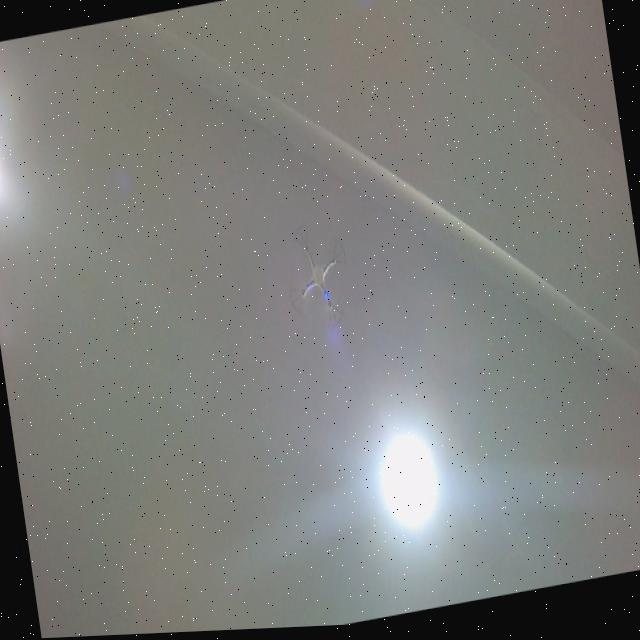drone: (274, 214, 360, 345)
